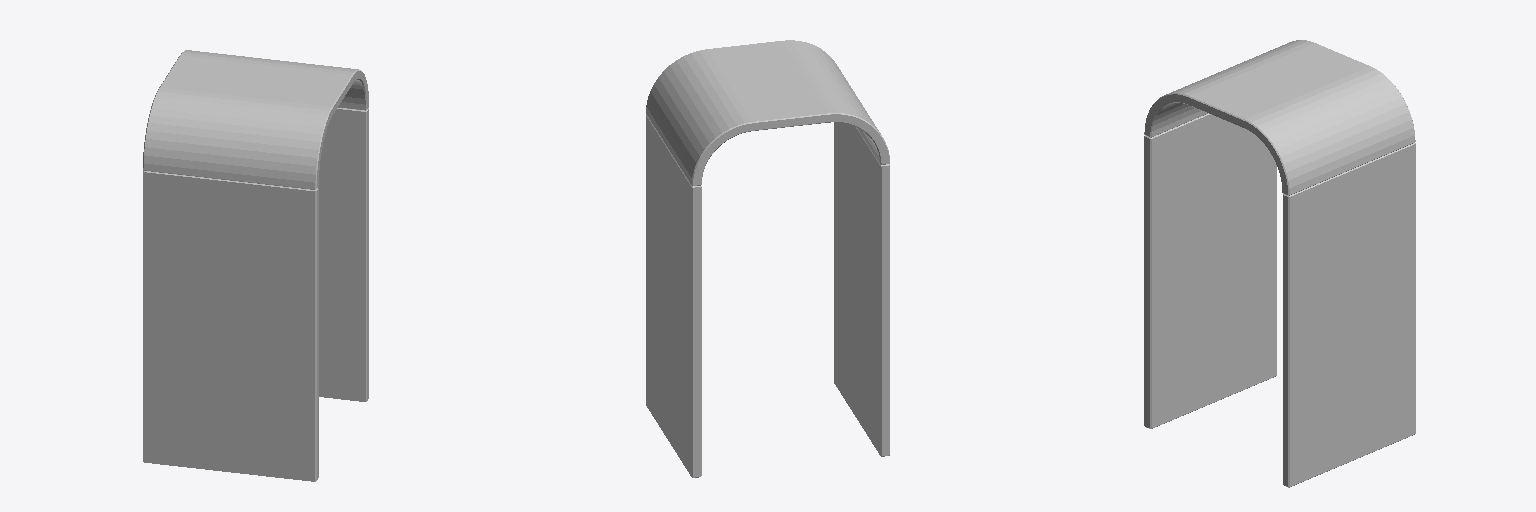
Rendered from chairtrippy.obj.
The picture shows the model from 3 angles: view 1: azimuth 30°, elevation 25°; view 2: azimuth 150°, elevation 25°; view 3: azimuth 270°, elevation 25°; orthographic projection.
Parts seen in each view (by area): view 1: Cube.042_Cube.060; view 2: Cube.042_Cube.060; view 3: Cube.042_Cube.060.
Part boxes in pixels (bbox=[...]): Cube.042_Cube.060: bbox=[143, 50, 368, 481]; Cube.042_Cube.060: bbox=[646, 40, 889, 477]; Cube.042_Cube.060: bbox=[1144, 40, 1415, 487].
Size of the model in its own units: 0.5275 by 0.75 by 0.5275.